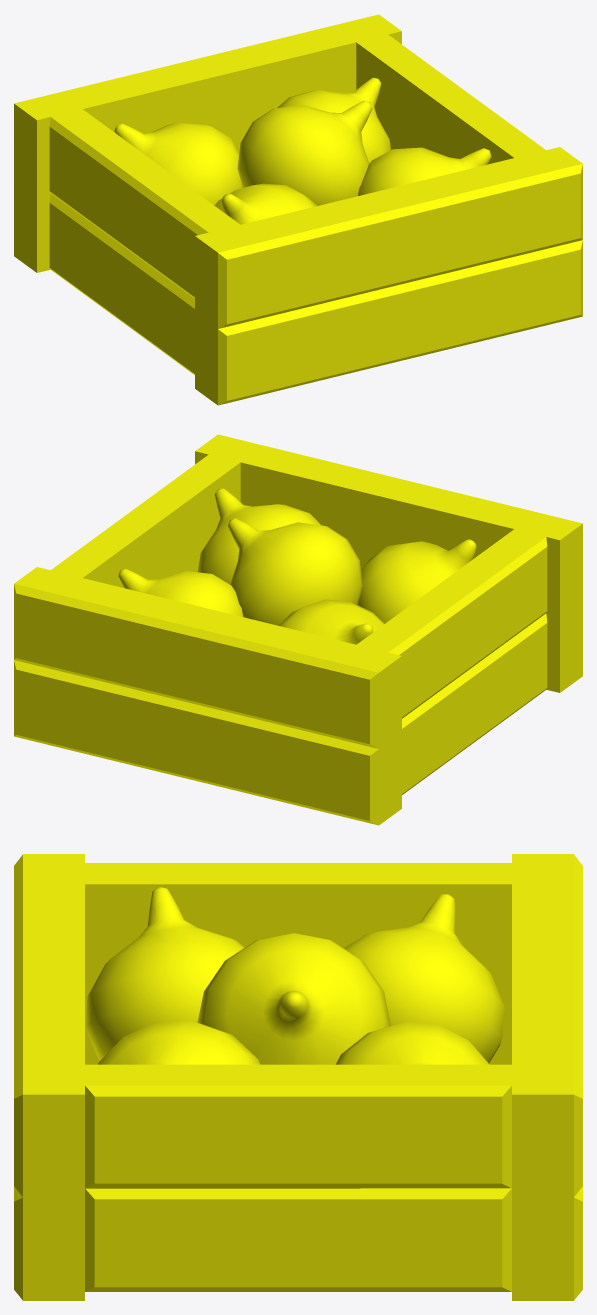
File: kaykit-crate-onions.glb
The picture shows the model from 3 angles, top to bottom: view 1: azimuth 30°, elevation 25°; view 2: azimuth 150°, elevation 25°; view 3: azimuth 270°, elevation 25°; orthographic projection. The views are drawn at different scales.
Visible parts, largest first — view 1: crate_onions; view 2: crate_onions; view 3: crate_onions.
Part boxes in pixels (<box>): crate_onions: <box>14,14,582,405</box>; crate_onions: <box>14,434,582,825</box>; crate_onions: <box>14,854,582,1300</box>.
Size of the model in its own units: 2 by 0.9234 by 2.
